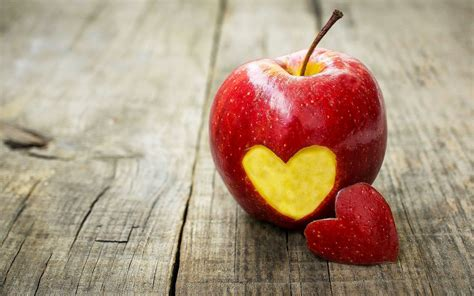apple: (207, 36, 389, 234)
